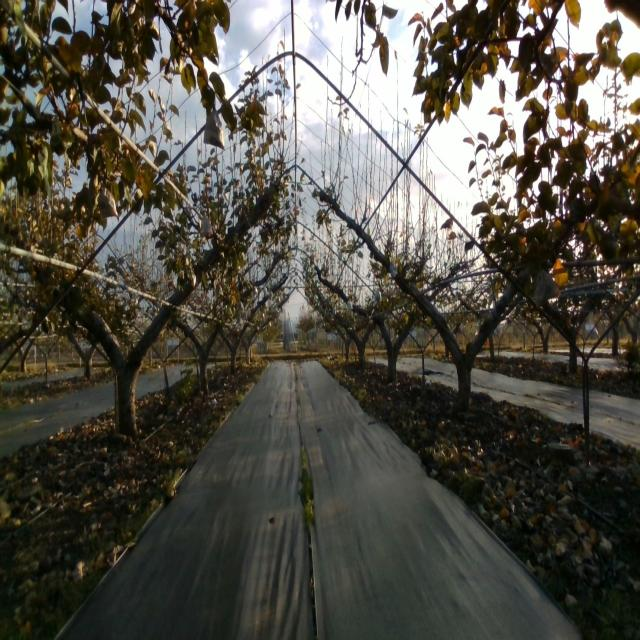pearbags: (535, 268, 561, 309), (203, 110, 225, 150), (98, 186, 119, 219), (200, 211, 213, 239)
